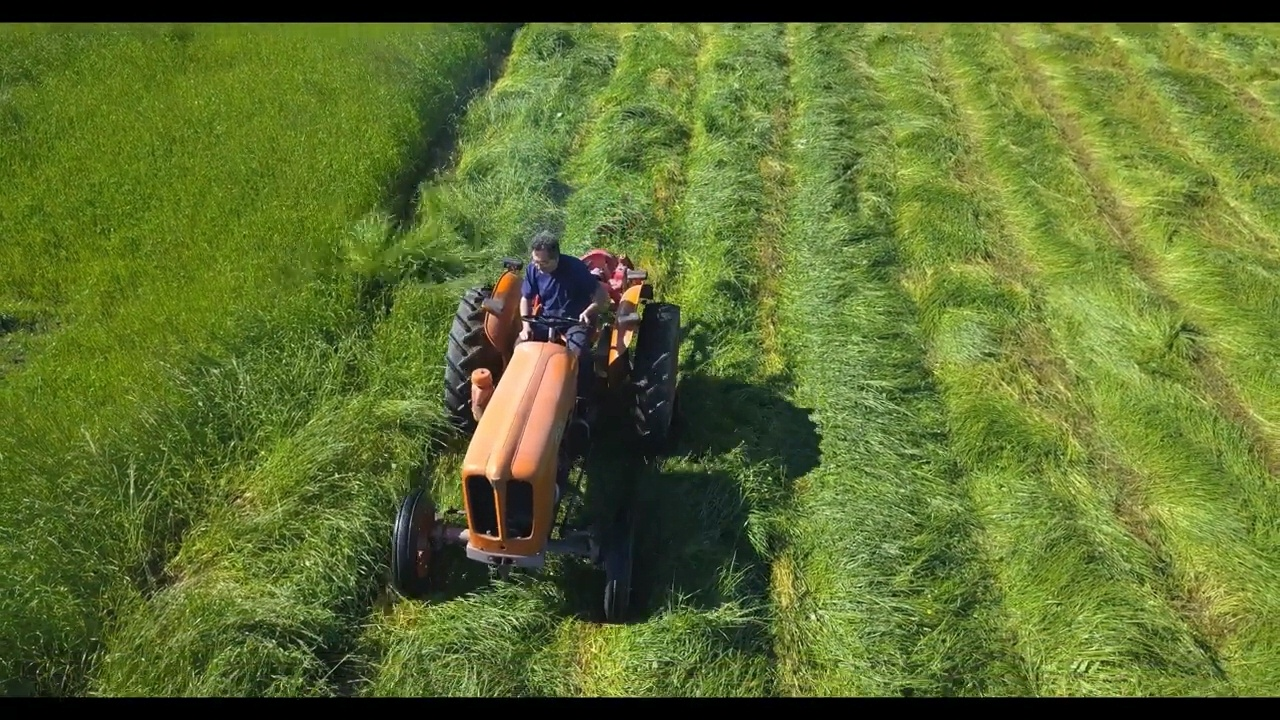insan: (509, 231, 601, 363)
traktor: (393, 272, 687, 617)
